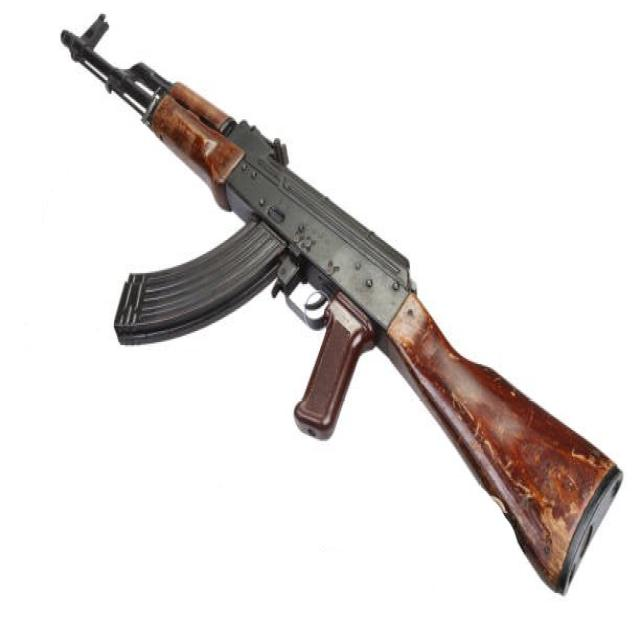rifle: (56, 6, 640, 612)
